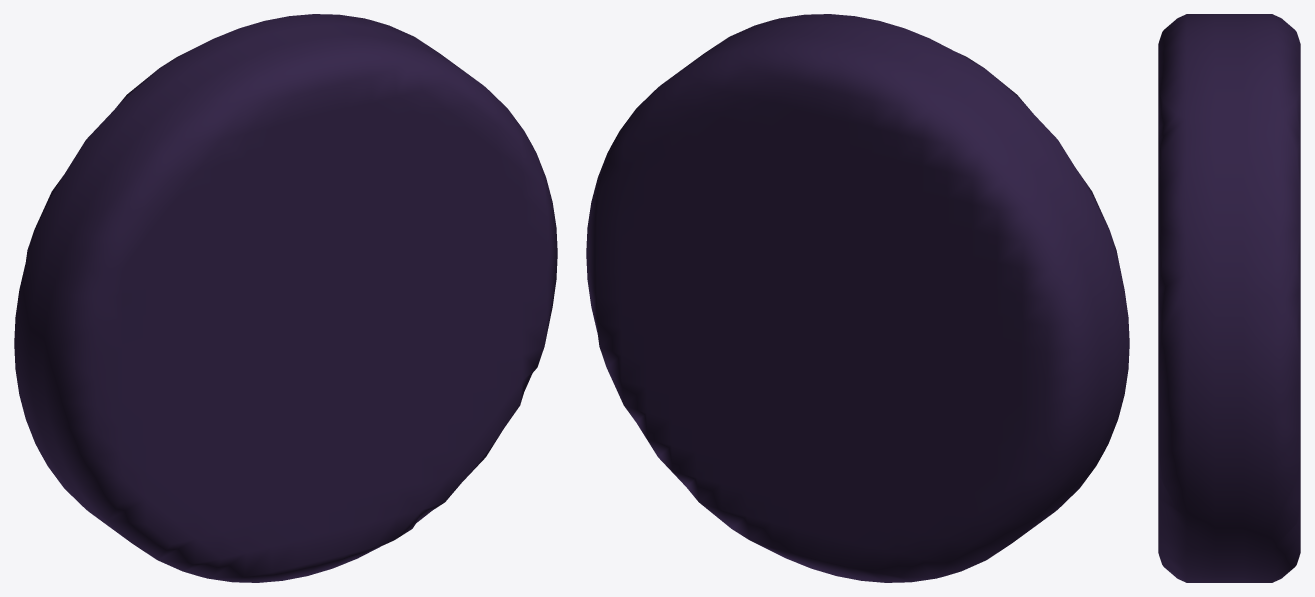
File: 018_rgb_main_camera_iris_detail.glb
3 renders of one model, left to right at view 1: azimuth 30°, elevation 25°; view 2: azimuth 150°, elevation 25°; view 3: azimuth 270°, elevation 25°, orthographic.
Parts seen in each view (by area): view 1: 018 | RGB Main Camera Iris Detail; view 2: 018 | RGB Main Camera Iris Detail; view 3: 018 | RGB Main Camera Iris Detail.
Part boxes in pixels (x1,y1,x2,y2): 018 | RGB Main Camera Iris Detail: (14, 14, 557, 582); 018 | RGB Main Camera Iris Detail: (586, 14, 1129, 582); 018 | RGB Main Camera Iris Detail: (1158, 14, 1300, 582).
Size of the model in its own units: 0.0016 by 0.0016 by 0.0004.
